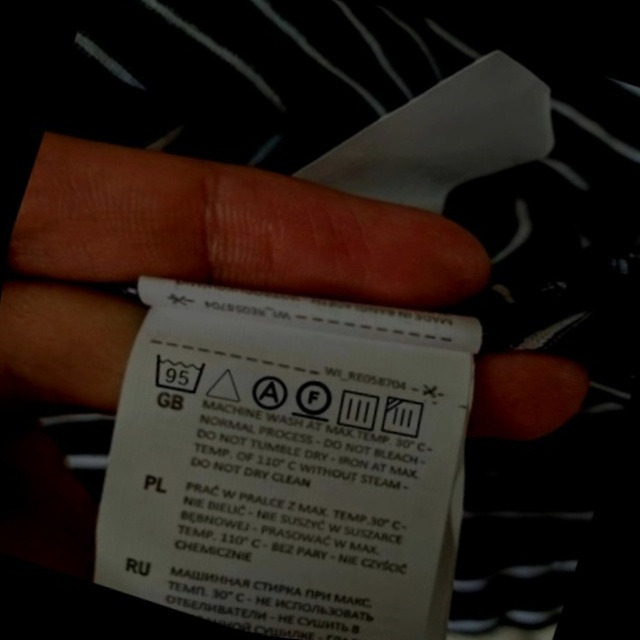95C: (141, 340, 218, 408)
bleach: (198, 353, 254, 413)
drip_dry: (326, 377, 392, 441)
drip_dry_in_shade: (371, 384, 439, 452)
dry_clean: (240, 364, 298, 420)
dry_clean_petrol_only: (283, 365, 346, 432)
